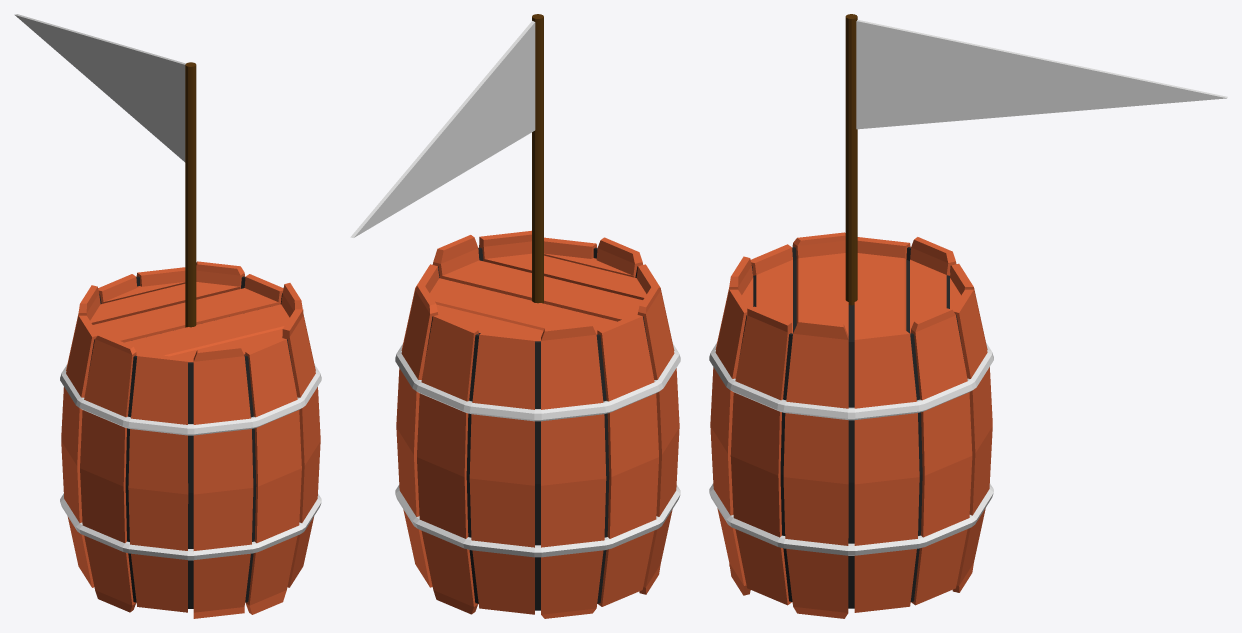
The model's file is Flag.fbx.
3 renders of one model, left to right at view 1: azimuth 30°, elevation 25°; view 2: azimuth 150°, elevation 25°; view 3: azimuth 270°, elevation 25°, orthographic. The views are drawn at different scales.
Parts seen in each view (by area): view 1: Barrel.001, Flag; view 2: Barrel.001, Flag; view 3: Barrel.001, Flag.
Part boxes in pixels (left/top/right/bottom): Barrel.001: left=60, top=62, right=321, bottom=618; Flag: left=14, top=14, right=185, bottom=162; Barrel.001: left=395, top=14, right=680, bottom=618; Flag: left=350, top=21, right=535, bottom=237; Barrel.001: left=709, top=14, right=993, bottom=618; Flag: left=856, top=20, right=1227, bottom=129.
Bounding box in the file's own units: 56.71 × 122 × 103.
